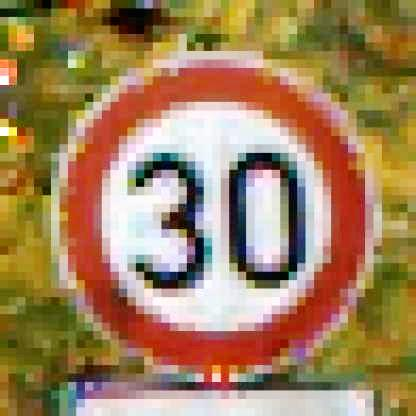Speed Limit -30-: (52, 51, 380, 382)
